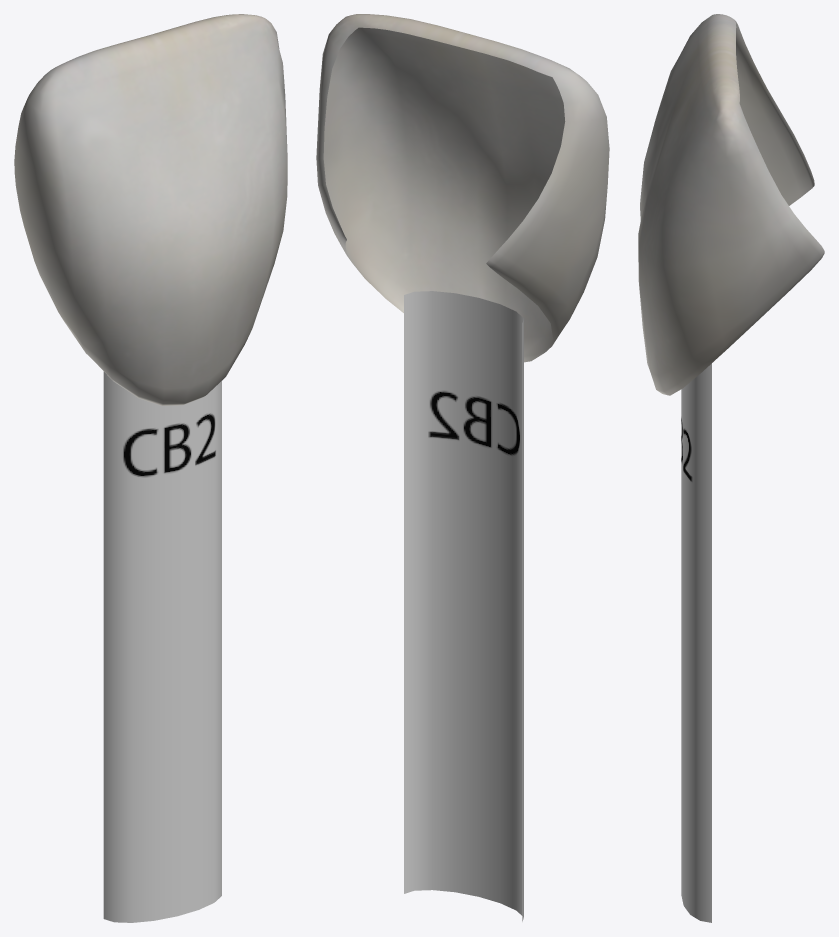
The picture shows the model from 3 angles, left to right: view 1: azimuth 30°, elevation 25°; view 2: azimuth 150°, elevation 25°; view 3: azimuth 270°, elevation 25°; orthographic projection. The views are drawn at different scales.
Visible parts, largest first — view 1: Tab; view 2: Tab; view 3: Tab.
Part boxes in pixels (x1,y1,x2,y2): Tab: [14, 14, 287, 922]; Tab: [316, 14, 609, 921]; Tab: [638, 14, 824, 922].
Size of the model in its own units: 0.00859 by 0.0273 by 0.00547.
1 material, 1 textured.
